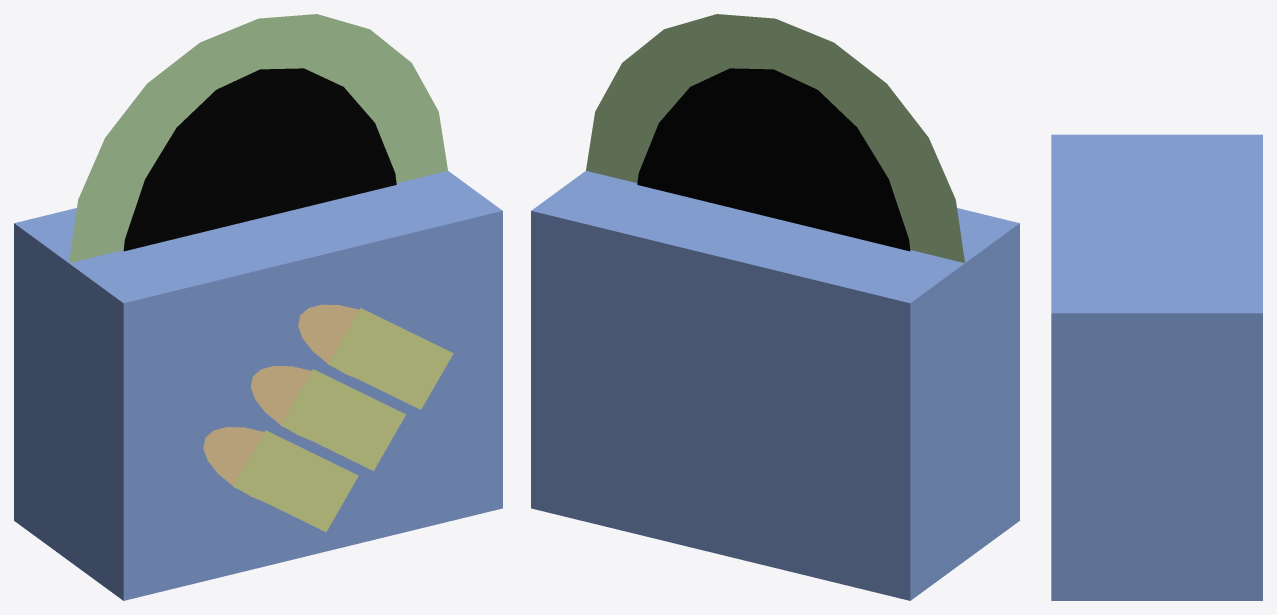
Rendered from bullets.glb.
3 renders of one model, left to right at view 1: azimuth 30°, elevation 25°; view 2: azimuth 150°, elevation 25°; view 3: azimuth 270°, elevation 25°, orthographic. The views are drawn at different scales.
Visible parts, largest first — view 1: Mesh, Disc (×5), Plane (×3); view 2: Mesh, Disc (×2); view 3: Mesh.
Boxes of the visible parts, left/top/right/bottom form: Mesh: left=14, top=171, right=502, bottom=600; Disc (×5): left=69, top=14, right=447, bottom=500; Plane (×3): left=233, top=308, right=453, bottom=531; Mesh: left=531, top=171, right=1019, bottom=600; Disc (×2): left=586, top=14, right=964, bottom=262; Mesh: left=1051, top=134, right=1262, bottom=600.
Bounding box in the file's own units: 2 × 2.5 × 1.02.
